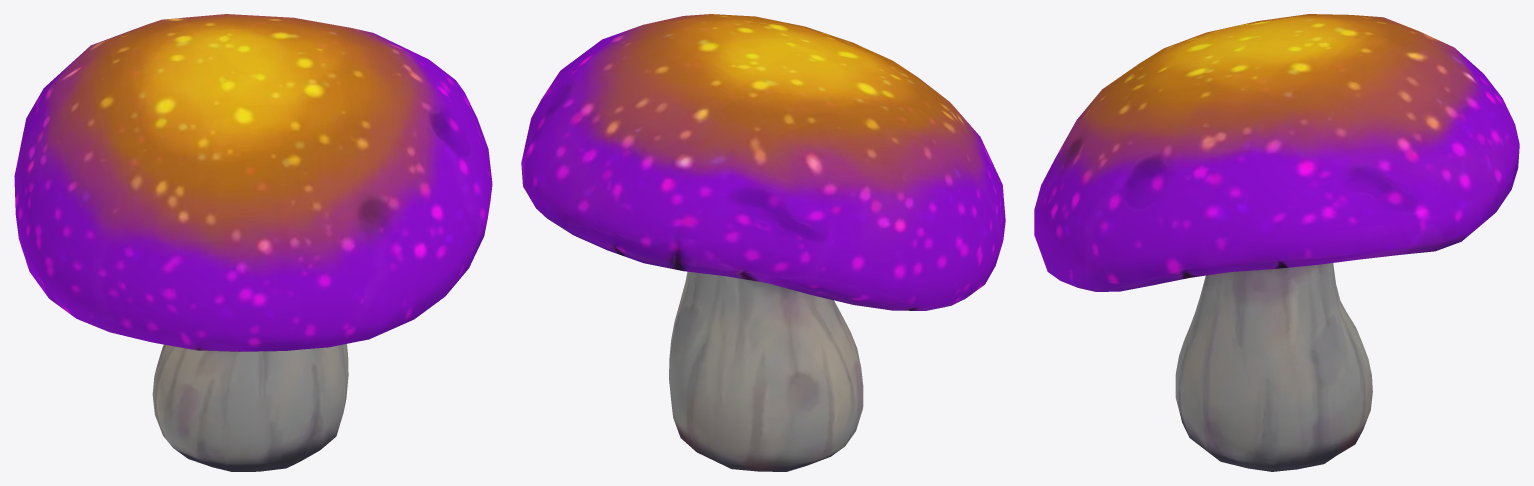
Rendered from mushrooms-transformed.glb.
3 views of the same model, side by side, from view 1: azimuth 30°, elevation 25°; view 2: azimuth 150°, elevation 25°; view 3: azimuth 270°, elevation 25° (orthographic). The views are drawn at different scales.
Visible parts, largest first — view 1: Mushroom; view 2: Mushroom; view 3: Mushroom.
Part boxes in pixels (x1,y1,x2,y2): Mushroom: [14, 14, 492, 471]; Mushroom: [521, 14, 1005, 471]; Mushroom: [1034, 14, 1519, 471].
Bounding box in the file's own units: 0.6532 × 0.601 × 0.65.
1 material, 1 textured.
